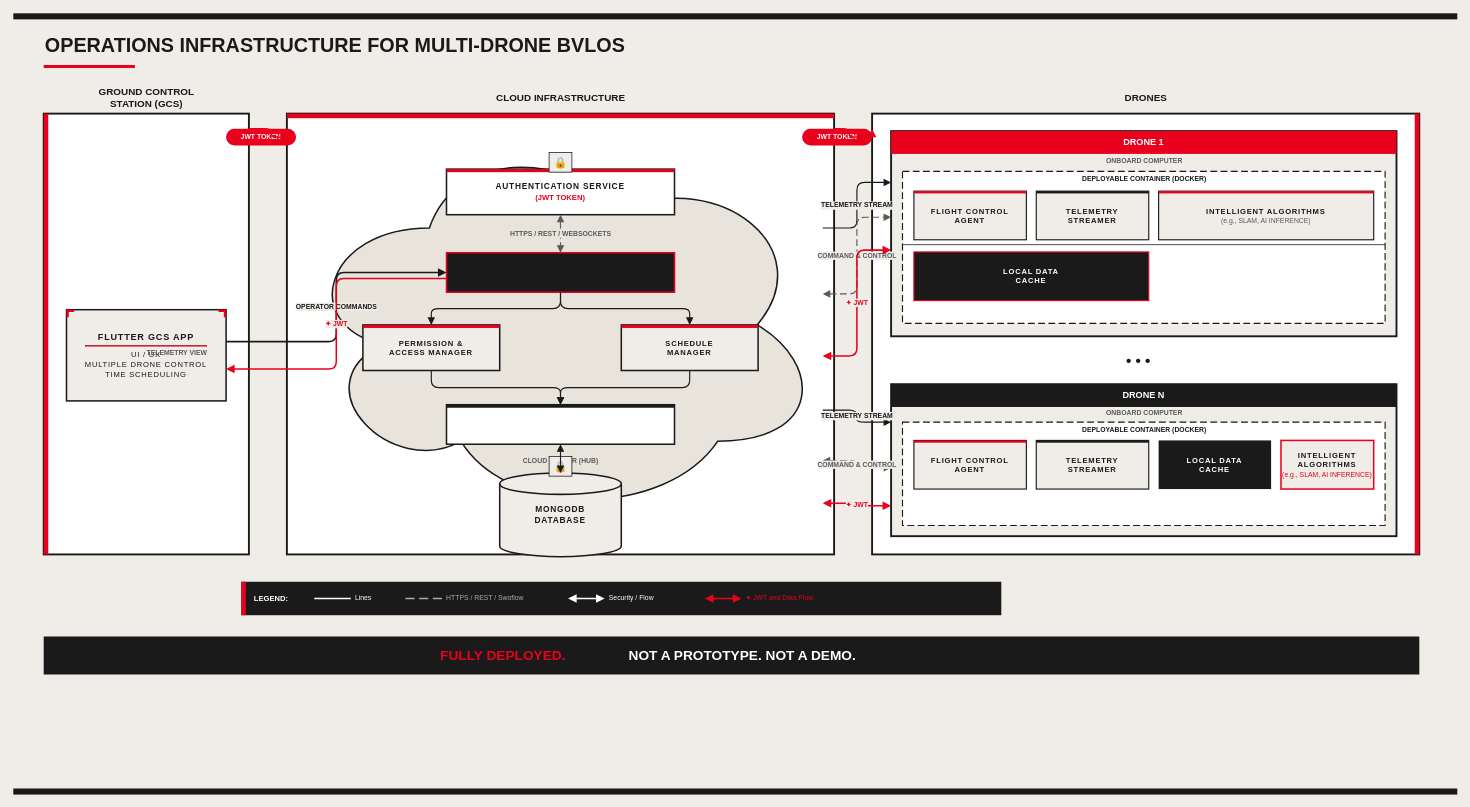
The diagram is 1470 pixels wide and 807 high, and some of its shapes have lost their labels. The centre of each missing label's shape, as x and y in pixels:
API GATEWAY / CONTROL LOGIC: point 560,272
CLIENT INTEGRATION API: point 560,424
